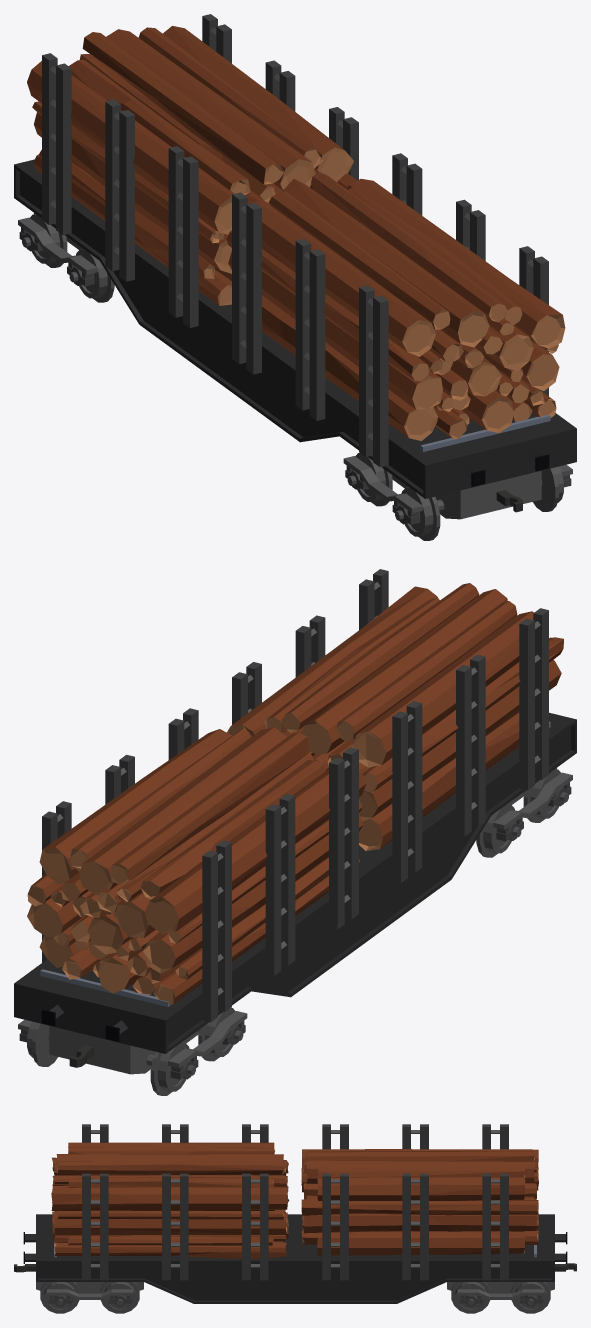
Rendered from Вагон.fbx.
3 views of the same model, one above another, from view 1: azimuth 30°, elevation 25°; view 2: azimuth 150°, elevation 25°; view 3: azimuth 270°, elevation 25° (orthographic). The views are drawn at different scales.
Parts seen in each view (by area): view 1: Куб, Цилиндр.019, Цилиндр.053; view 2: Куб, Цилиндр.053, Цилиндр.019; view 3: Куб, Цилиндр.019, Цилиндр.053.
Boxes of the visible parts, box(x1,y1,x2,y2) form: Куб: box(14, 14, 576, 540); Цилиндр.019: box(226, 172, 565, 440); Цилиндр.053: box(27, 26, 356, 305); Куб: box(14, 569, 576, 1095); Цилиндр.053: box(27, 727, 365, 1004); Цилиндр.019: box(227, 583, 563, 850); Куб: box(14, 1124, 576, 1313); Цилиндр.019: box(51, 1142, 289, 1259); Цилиндр.053: box(301, 1149, 538, 1255).
Size of the model in its own units: 373 by 482 by 1702.
